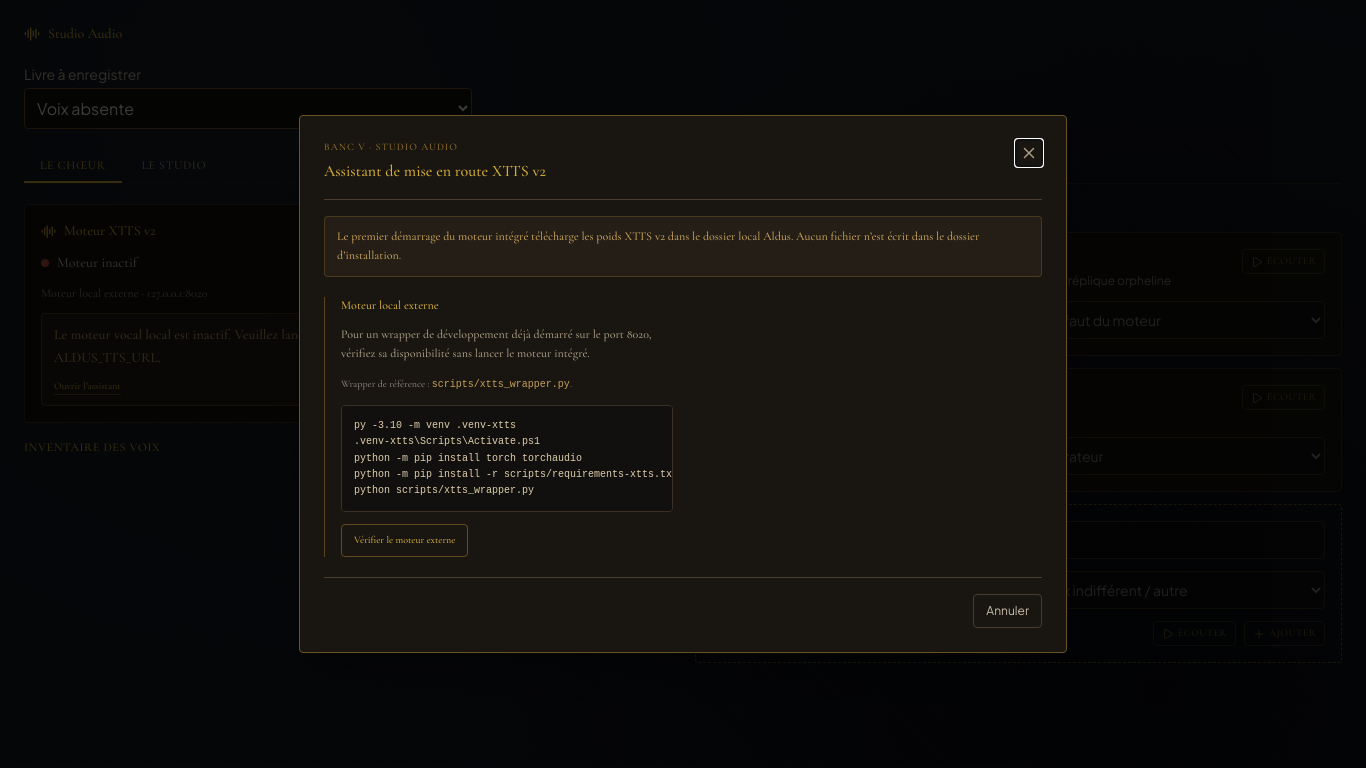
Test case: StudioAudioView › shows the exact local-engine notice, the setup assistant and blocks generation without a voice
The width and height of the screenshot is (1366, 768).
Expected: the element named "Console du moteur vocal" shows "Moteur inactif", [57, 254, 137, 271]
Expected: the dialog "Assistant de mise en route XTTS v2" shows "Moteur local externe", [341, 298, 439, 312]
Click the button "Vérifier le moteur externe". click: (405, 541)
box: [341, 524, 468, 557]
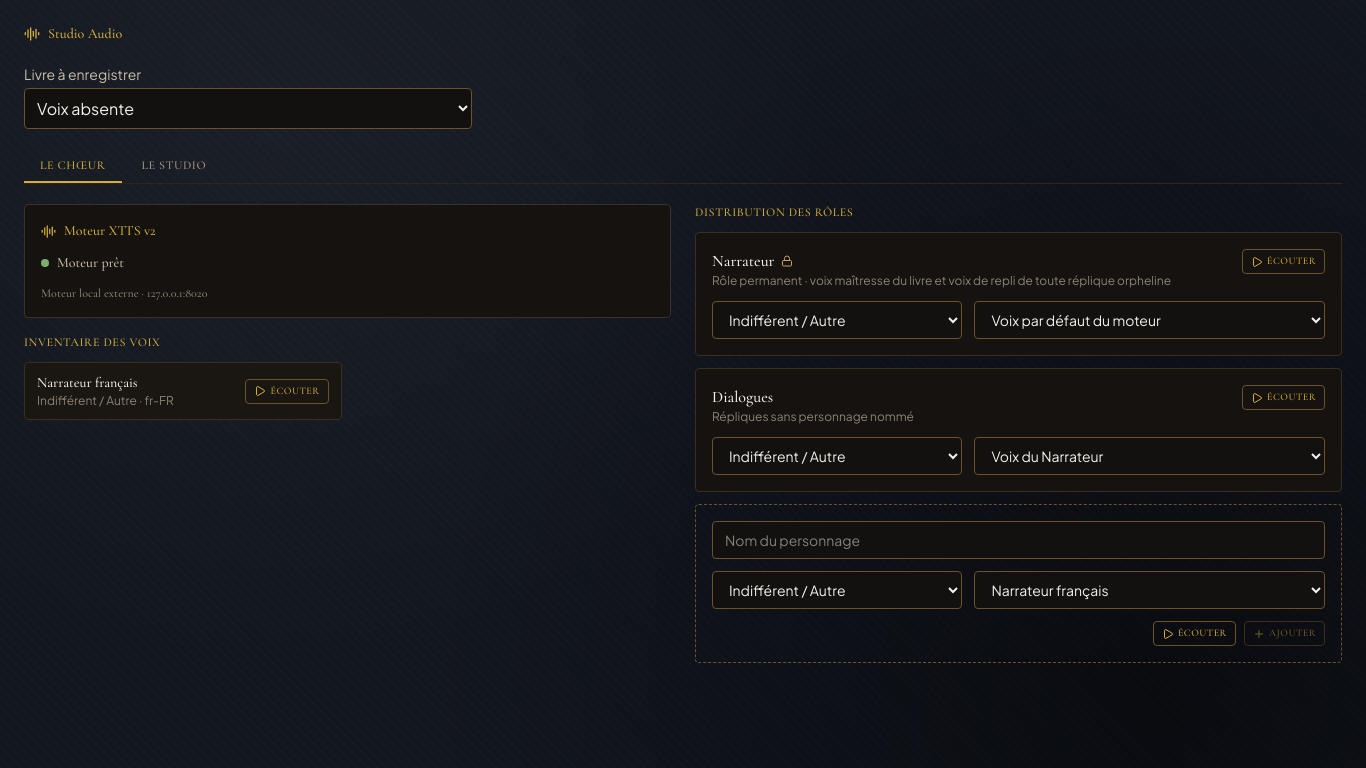
Now the button with aria-label "Écouter la voix Narrateur français" is shown, box [246, 378, 328, 404]
Now the heading "Assistant de mise en route XTTS v2" is gone
Now the element named "Console du moteur vocal" shows "Moteur prêt", box [57, 254, 124, 271]
